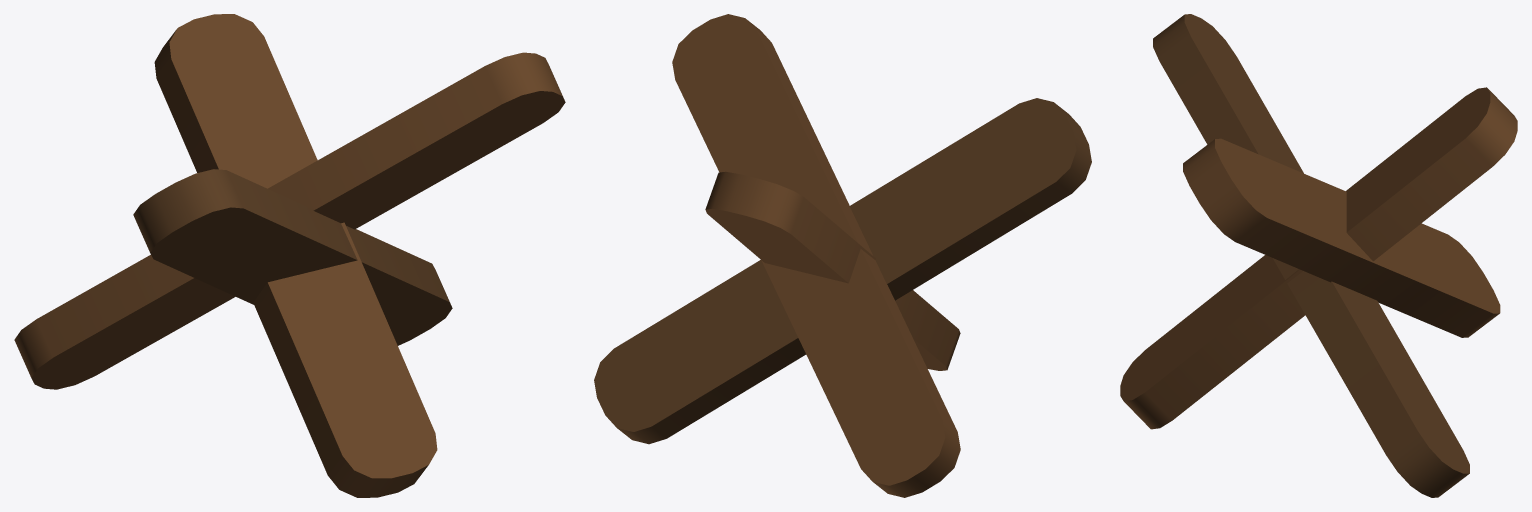
The model's file is hang rao gai.fbx.
3 renders of one model, left to right at view 1: azimuth 30°, elevation 25°; view 2: azimuth 150°, elevation 25°; view 3: azimuth 270°, elevation 25°, orthographic. The views are drawn at different scales.
Visible parts, largest first — view 1: Rao_gai; view 2: Rao_gai; view 3: Rao_gai.
Part boxes in pixels (box(x1,y1,x2,y2)): Rao_gai: box(14, 14, 565, 497); Rao_gai: box(594, 14, 1091, 497); Rao_gai: box(1120, 14, 1517, 497).
Size of the model in its own units: 174 by 149 by 151.
